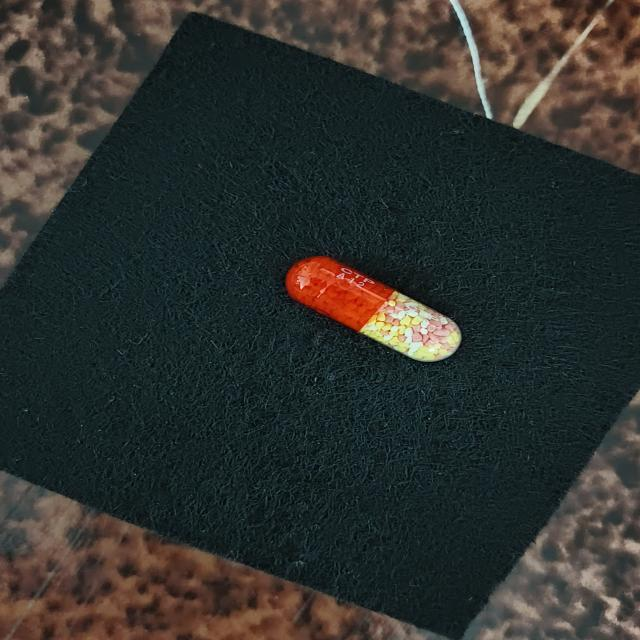Intact Capsule: (285, 256, 462, 362)
